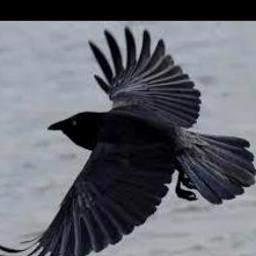Crow: (0, 27, 256, 256)
